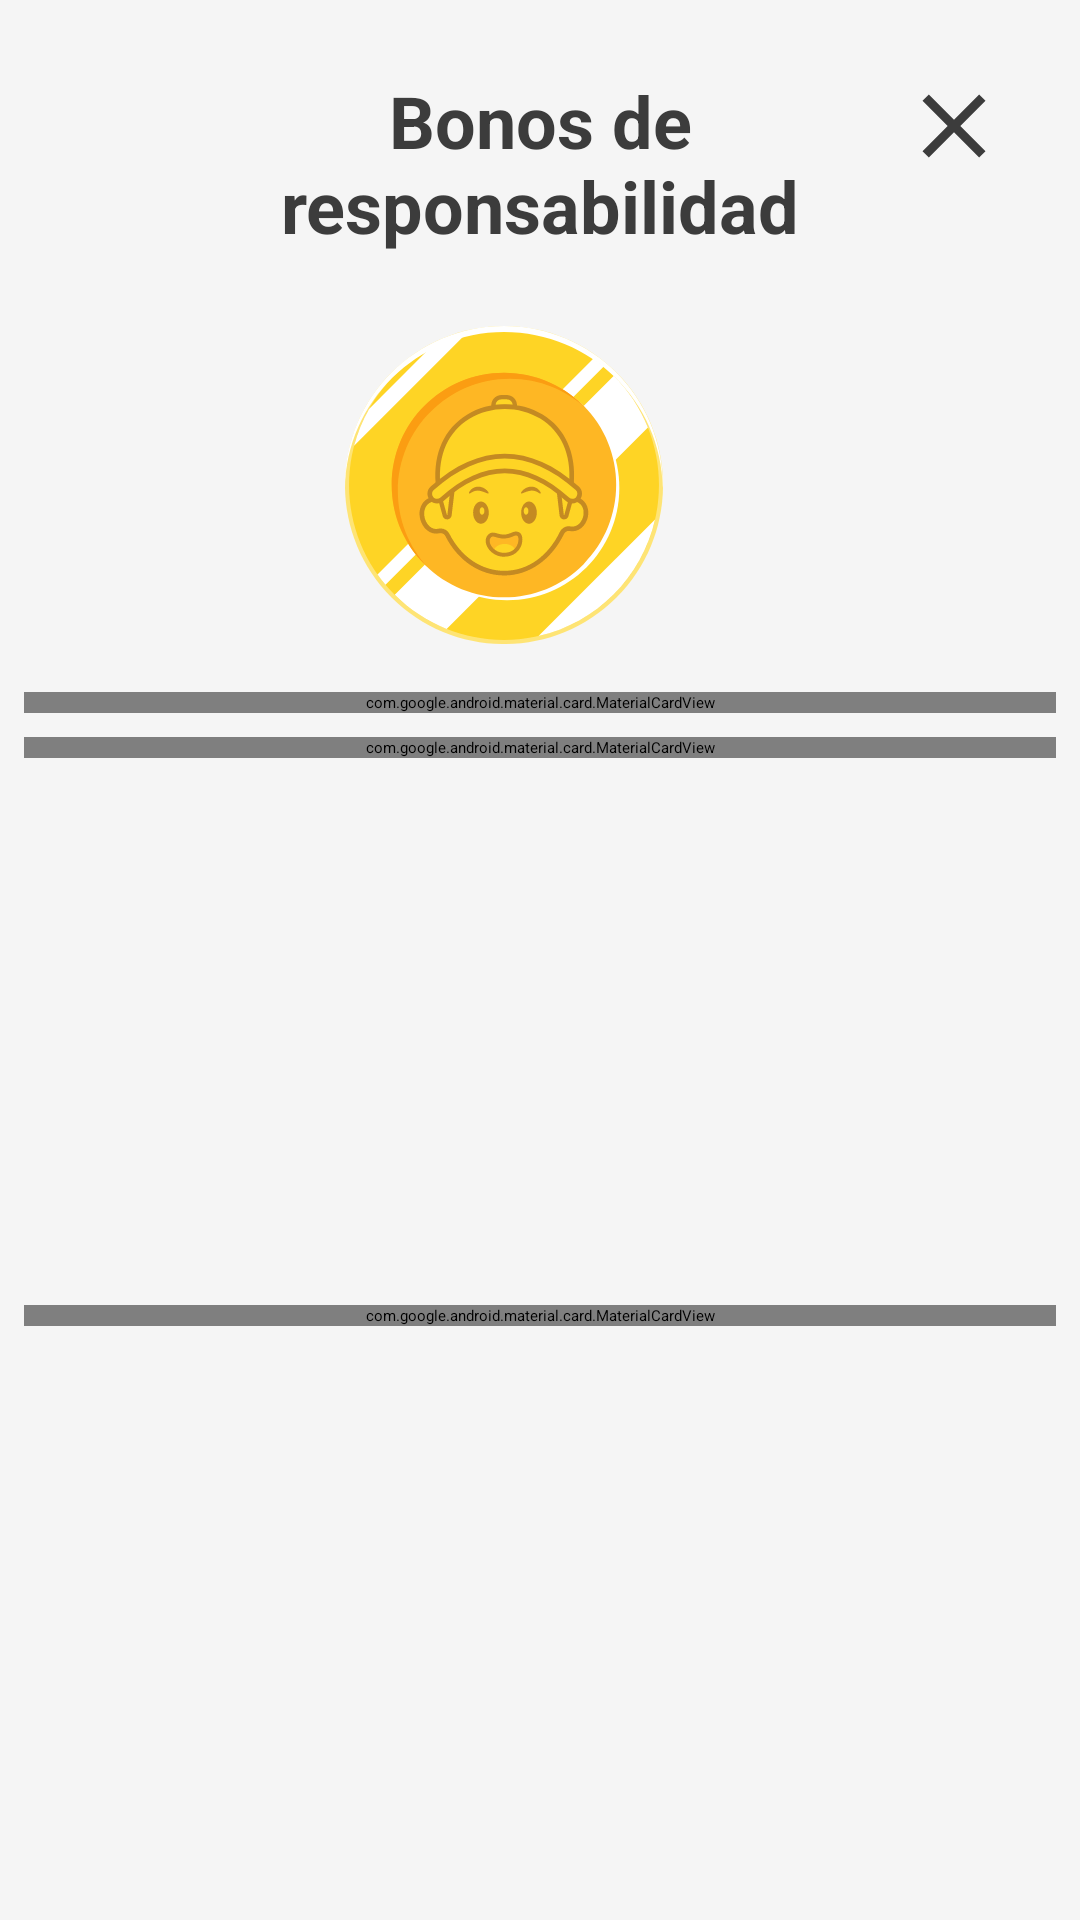

Screen size 1080px x 1920px. Icon name, then its center in pixels as (x,y):
volver: (954,126)
